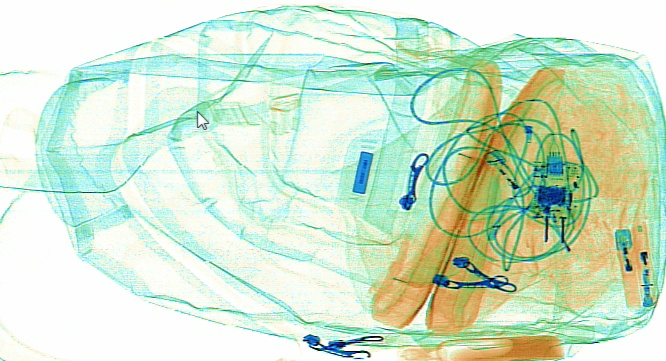lighter: (478, 148, 547, 229), (613, 225, 643, 310), (629, 215, 657, 303)
